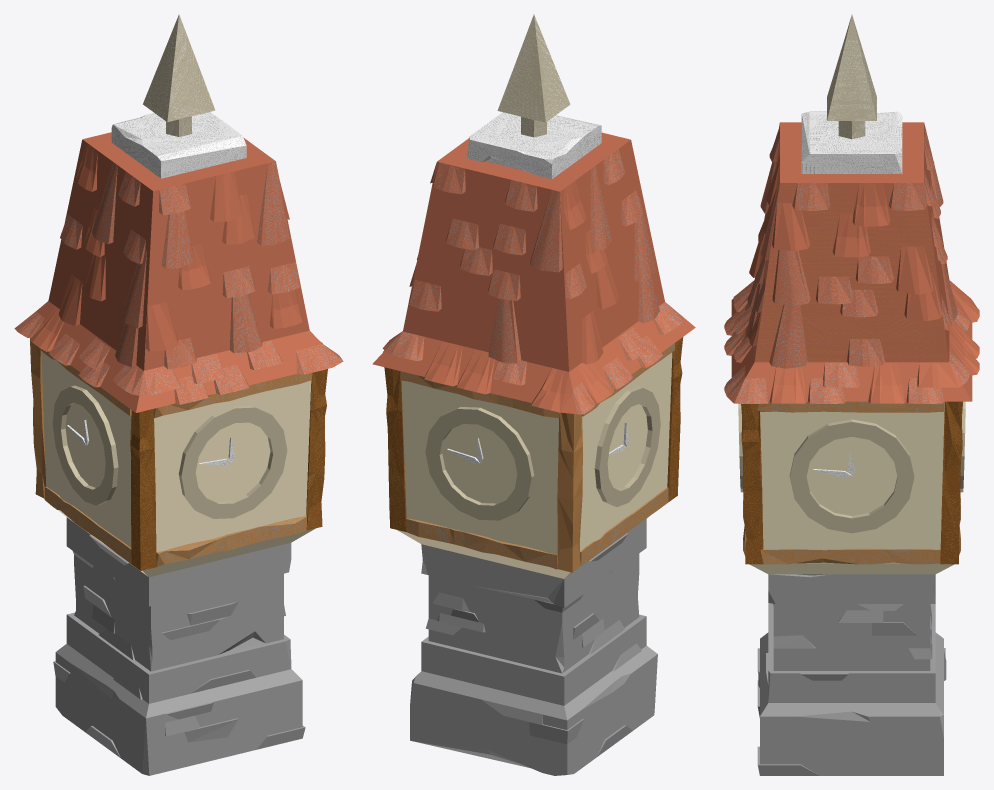
The model's file is TownHall.fbx.
3 renders of one model, left to right at view 1: azimuth 30°, elevation 25°; view 2: azimuth 150°, elevation 25°; view 3: azimuth 270°, elevation 25°, orthographic.
Visible parts, largest first — view 1: Group3, Group5, Group20, Group2, Group17, Ugol_Ratusha1, Group18, Ugol_Ratusha2_1, StolbRatusha4_1, Roof3_3, Ugol_Ratusha3_1, StolbRatusha4_2 (+28 smaller); view 2: Group3, Group5, Group20, Group2, Group16, Ugol_Ratusha3_1, Group18, Ugol_Ratusha4_1, StolbRatusha3_1, Roof3_5, Ugol_Ratusha1, Roof3_10 (+28 smaller); view 3: Group3, Group5, Group20, Group2, Group19, Ugol_Ratusha4_1, Ugol_Ratusha2_1, StolbRatusha2_1, Roof3_9, StolbRatusha2_2, Roof3_6, Roof4_3 (+20 smaller).
Boxes of the visible parts, x1=… form: Group3: x1=53, y1=517, x2=305, y2=775; Group5: x1=36, y1=132, x2=321, y2=412; Group20: x1=41, y1=351, x2=315, y2=577; Group2: x1=111, y1=14, x2=246, y2=178; Group17: x1=178, y1=405, x2=287, y2=518; Ugol_Ratusha1: x1=130, y1=409, x2=156, y2=570; Group18: x1=52, y1=385, x2=118, y2=505; Ugol_Ratusha2_1: x1=306, y1=369, x2=327, y2=530; StolbRatusha4_1: x1=156, y1=516, x2=306, y2=566; Roof3_3: x1=257, y1=161, x2=289, y2=245; Ugol_Ratusha3_1: x1=30, y1=338, x2=46, y2=498; StolbRatusha4_2: x1=153, y1=373, x2=312, y2=418; Group3: x1=410, y1=519, x2=657, y2=775; Group5: x1=372, y1=132, x2=695, y2=402; Group20: x1=397, y1=352, x2=672, y2=578; Group2: x1=466, y1=14, x2=601, y2=178; Group16: x1=425, y1=407, x2=534, y2=520; Ugol_Ratusha3_1: x1=557, y1=412, x2=582, y2=572; Group18: x1=594, y1=386, x2=660, y2=506; Ugol_Ratusha4_1: x1=384, y1=367, x2=406, y2=531; StolbRatusha3_1: x1=406, y1=518, x2=557, y2=569; Roof3_5: x1=530, y1=190, x2=562, y2=272; Ugol_Ratusha1: x1=667, y1=337, x2=683, y2=501; Roof3_10: x1=488, y1=298, x2=521, y2=363; Group3: x1=757, y1=574, x2=946, y2=775; Group5: x1=731, y1=122, x2=972, y2=401; Group20: x1=749, y1=402, x2=954, y2=574; Group2: x1=801, y1=14, x2=902, y2=173; Group19: x1=789, y1=419, x2=914, y2=533; Ugol_Ratusha4_1: x1=940, y1=401, x2=962, y2=564; Ugol_Ratusha2_1: x1=741, y1=404, x2=763, y2=564; StolbRatusha2_1: x1=760, y1=548, x2=940, y2=564; Roof3_9: x1=769, y1=305, x2=807, y2=368; StolbRatusha2_2: x1=757, y1=401, x2=944, y2=412; Roof3_6: x1=772, y1=249, x2=810, y2=305; Roof4_3: x1=896, y1=246, x2=933, y2=294.
Size of the model in its own units: 2336 by 7300 by 2336.
